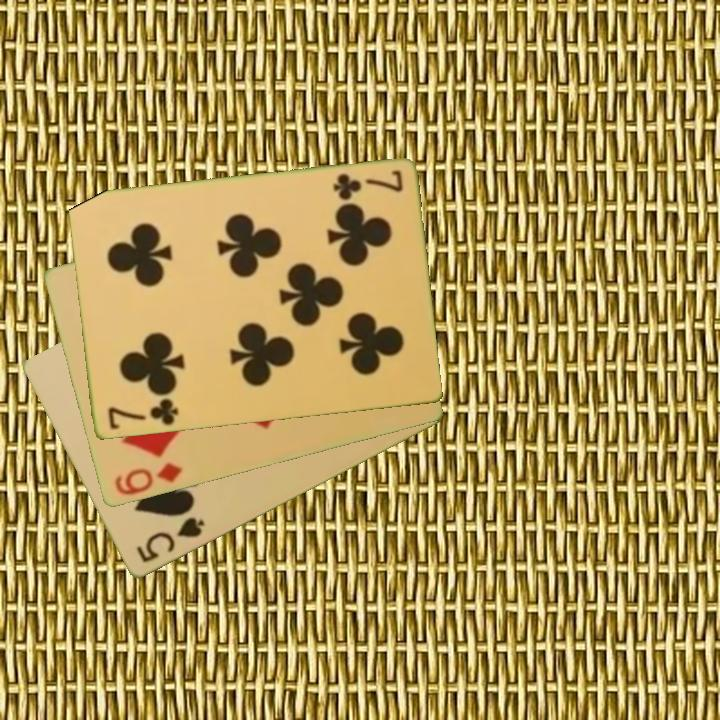5s: (132, 514, 208, 566)
6d: (111, 459, 186, 499)
7c: (104, 395, 181, 433), (329, 167, 405, 203)
